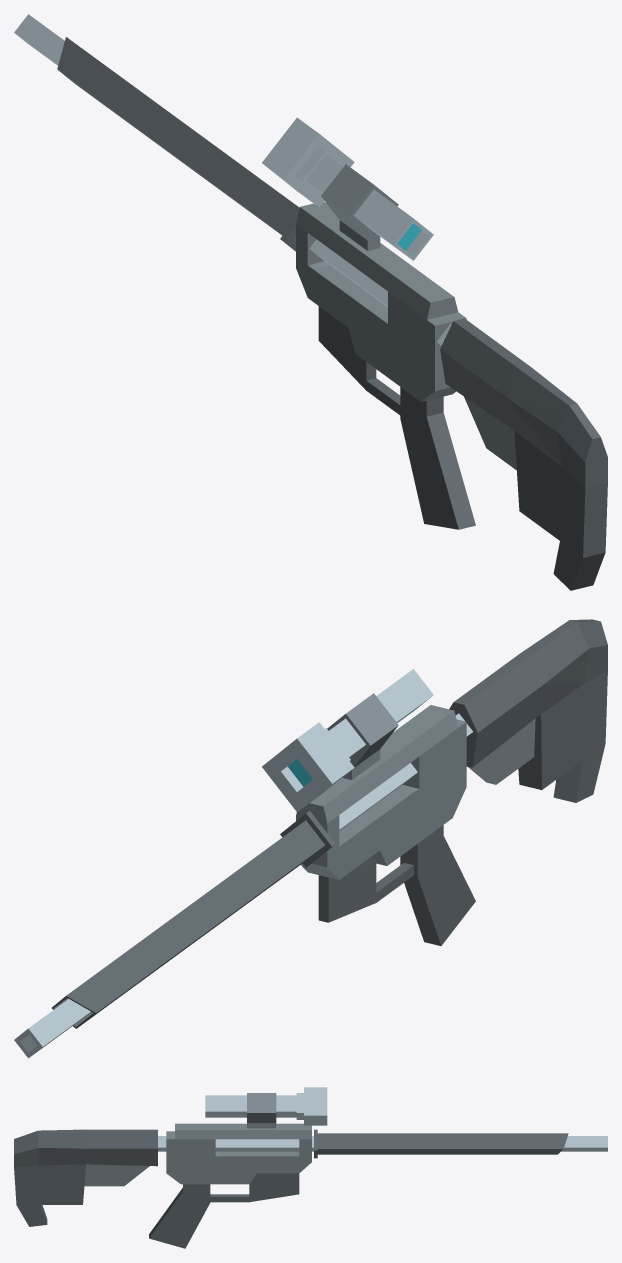
File: sniper.glb
The picture shows the model from 3 angles, top to bottom: view 1: azimuth 30°, elevation 25°; view 2: azimuth 150°, elevation 25°; view 3: azimuth 270°, elevation 25°; orthographic projection. The views are drawn at different scales.
Parts seen in each view (by area): view 1: body, scope; view 2: body, scope; view 3: body, scope.
Boxes of the visible parts, <box> form: body: <box>14,14,607,590</box>; scope: <box>262,117,433,260</box>; body: <box>14,619,607,1058</box>; scope: <box>262,669,433,811</box>; body: <box>14,1123,607,1248</box>; scope: <box>205,1087,327,1128</box>.
Bounding box in the file's own units: 0.1058 × 0.4366 × 1.47.
